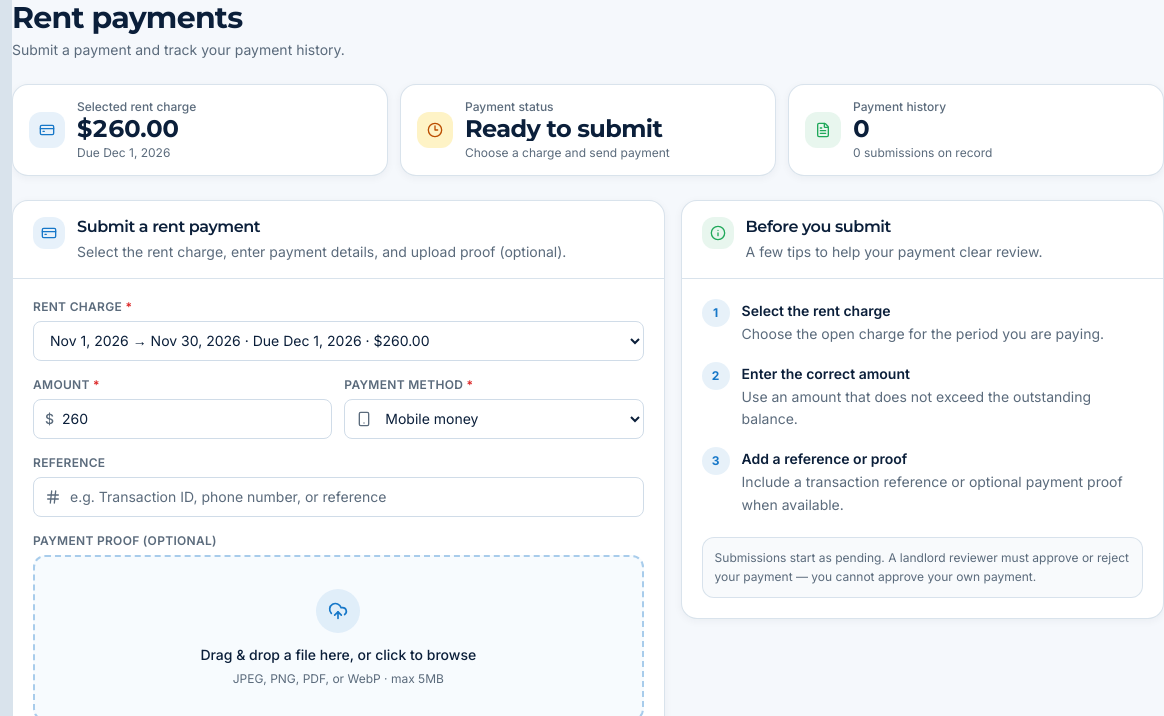
Test case: RenterPaymentsPage › rejects amounts that exceed the selected charge balance
The image size is (1164, 716).
Replace the text in the number field labelled "Amount *" with "999": (183, 419) [33,399,332,439]
(page scrolled)
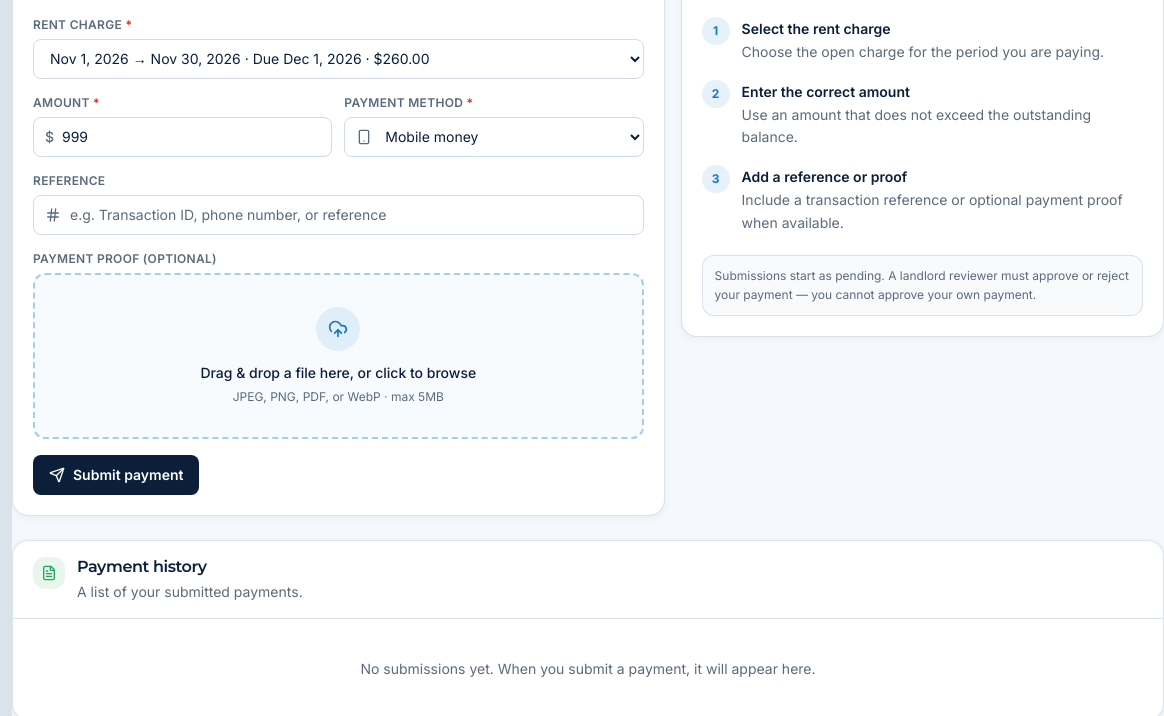
Click the button "Submit payment": (116, 475) [33,455,200,495]
(page scrolled)
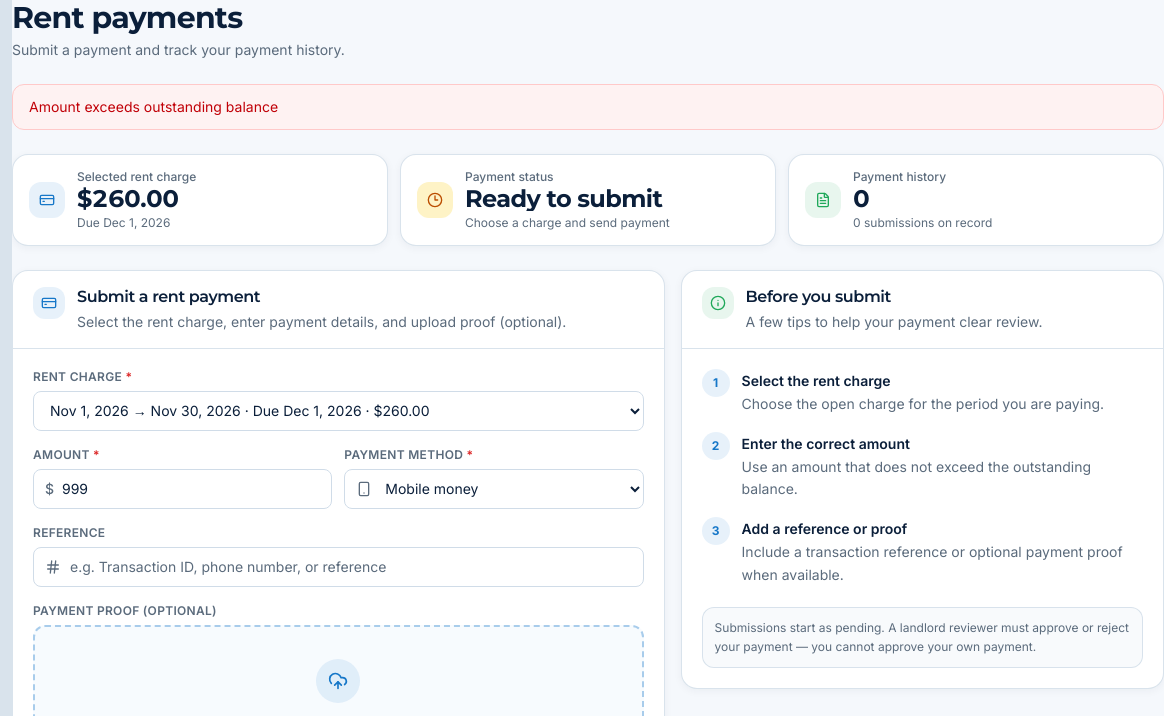
Expected: the message shows "exceeds outstanding balance", [29,98,278,115]
